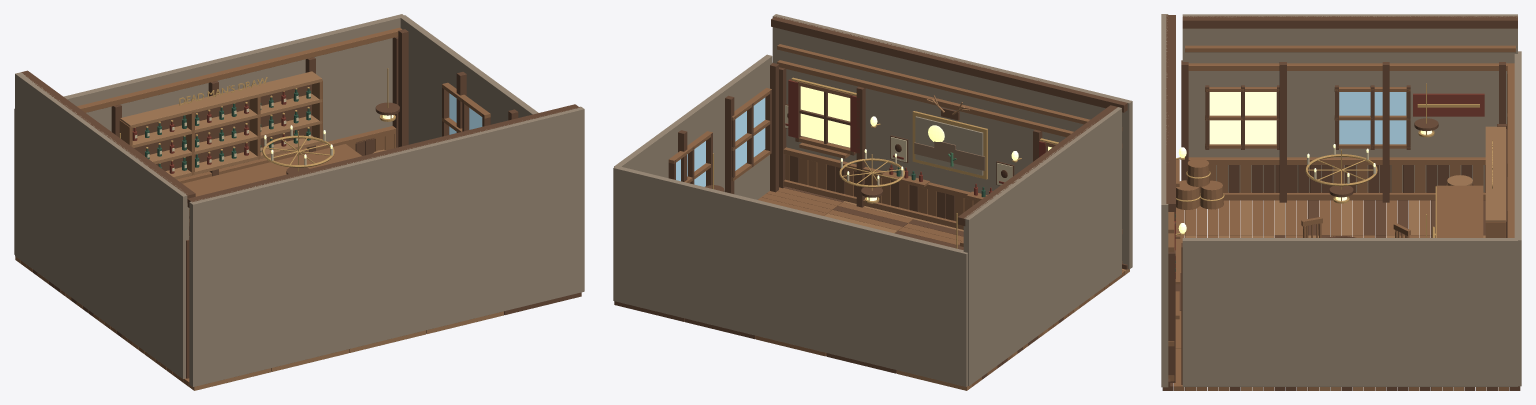
Rendered from environment.glb.
The picture shows the model from 3 angles, left to right: view 1: azimuth 30°, elevation 25°; view 2: azimuth 150°, elevation 25°; view 3: azimuth 270°, elevation 25°; orthographic projection. The views are drawn at different scales.
Parts seen in each view (by area): view 1: env_saloon; view 2: env_saloon; view 3: env_saloon.
Part boxes in pixels (x1=…): env_saloon: x1=14, y1=14, x2=584, y2=390; env_saloon: x1=613, y1=14, x2=1132, y2=390; env_saloon: x1=1161, y1=14, x2=1521, y2=390.
Bounding box in the file's own units: 10.1 × 4.62 × 8.06.
